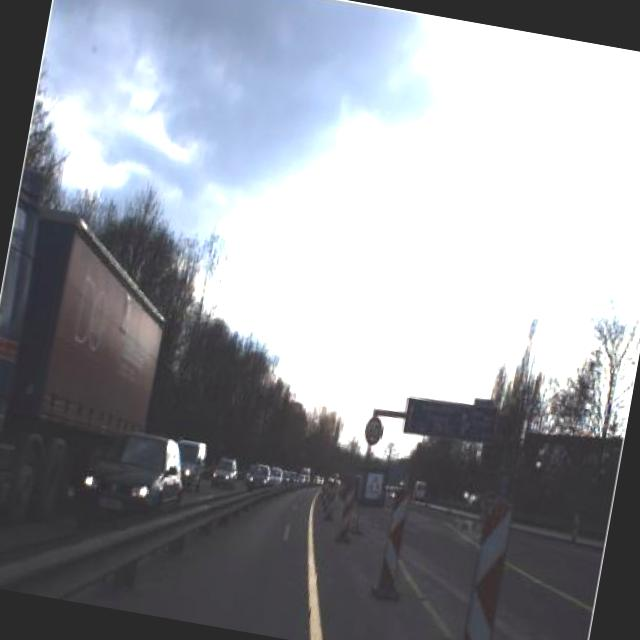Ograniczenie predkosci do 60: (360, 414, 384, 448)
